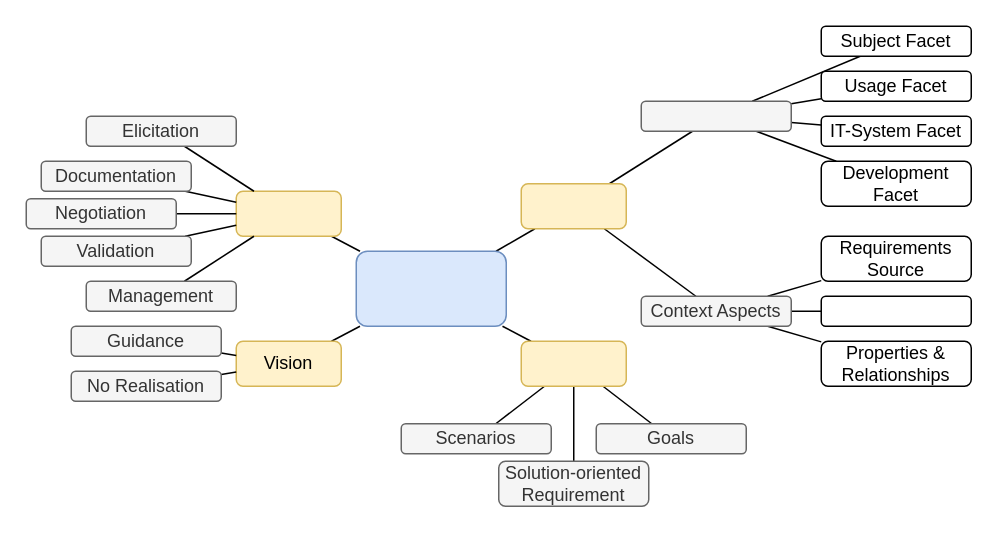
Image size: 998x533. Some labels were removed from this diagram. The shapes that lost their labels are listed below. From the top down, each one's centre as x and y in pixels, then its label:
(715,115): Context Facets
(288,213): Activities
(573,205): Context
(430,288): Requirements Engineering
(895,310): Context Subject
(573,363): Artefacts
